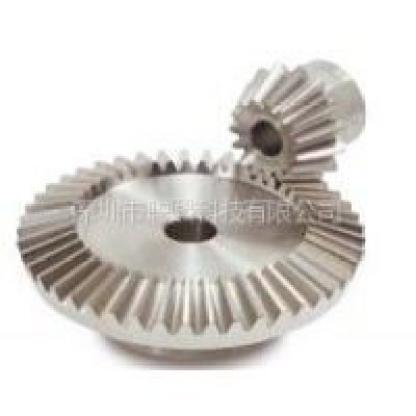FOD: (11, 152, 370, 356), (226, 54, 369, 181)
